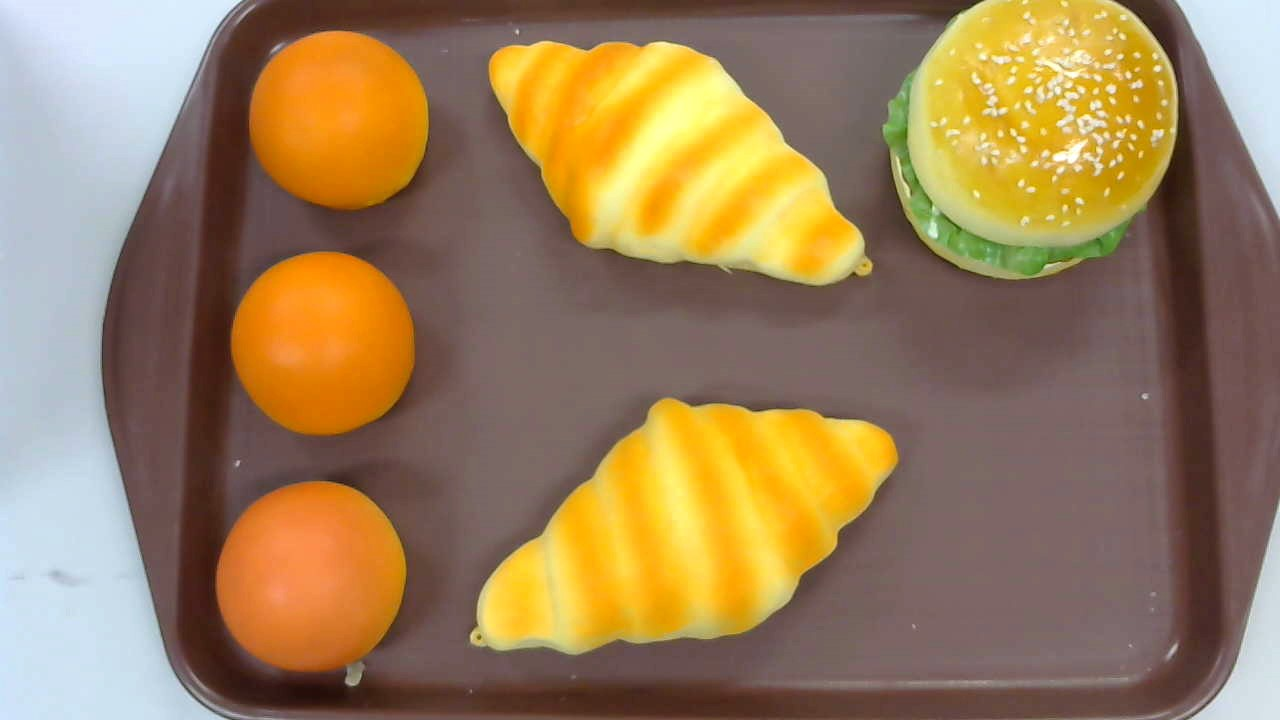bun: (215, 481, 405, 672), (231, 250, 416, 436), (248, 29, 428, 209)
croissant: (469, 397, 899, 657), (487, 40, 874, 286)
hamburger: (881, 1, 1180, 281)
